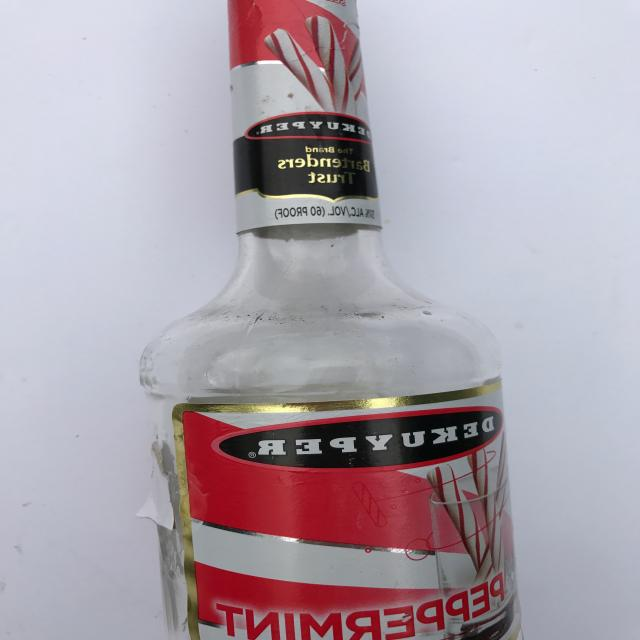glass: (138, 0, 523, 640)
